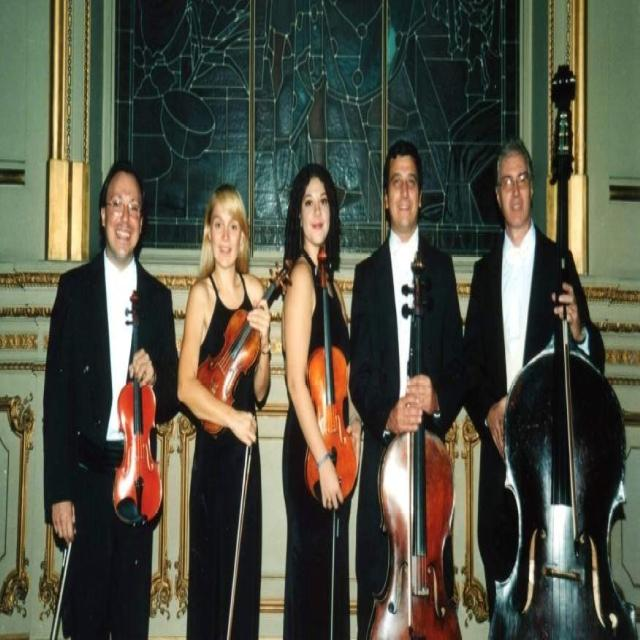cello: (361, 251, 458, 639)
violin: (193, 256, 295, 441), (301, 243, 359, 509), (112, 286, 166, 528)
